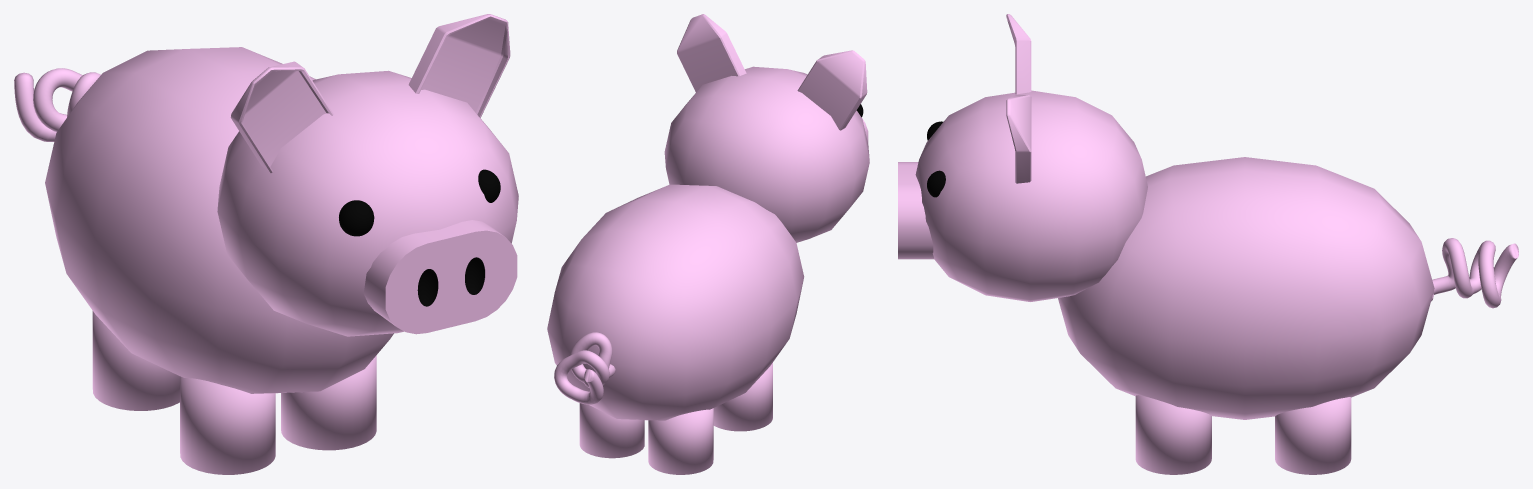
The model's file is pet-pig.glb.
The picture shows the model from 3 angles, left to right: view 1: azimuth 30°, elevation 25°; view 2: azimuth 150°, elevation 25°; view 3: azimuth 270°, elevation 25°; orthographic projection. The views are drawn at different scales.
Bounding box in the file's own units: 0.00896 × 0.0145 × 0.0214.
